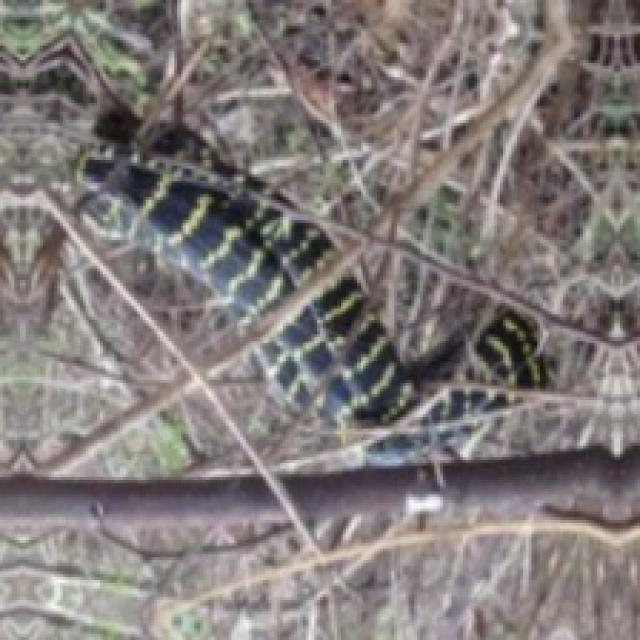mangrove cat snake: (71, 146, 546, 463)
